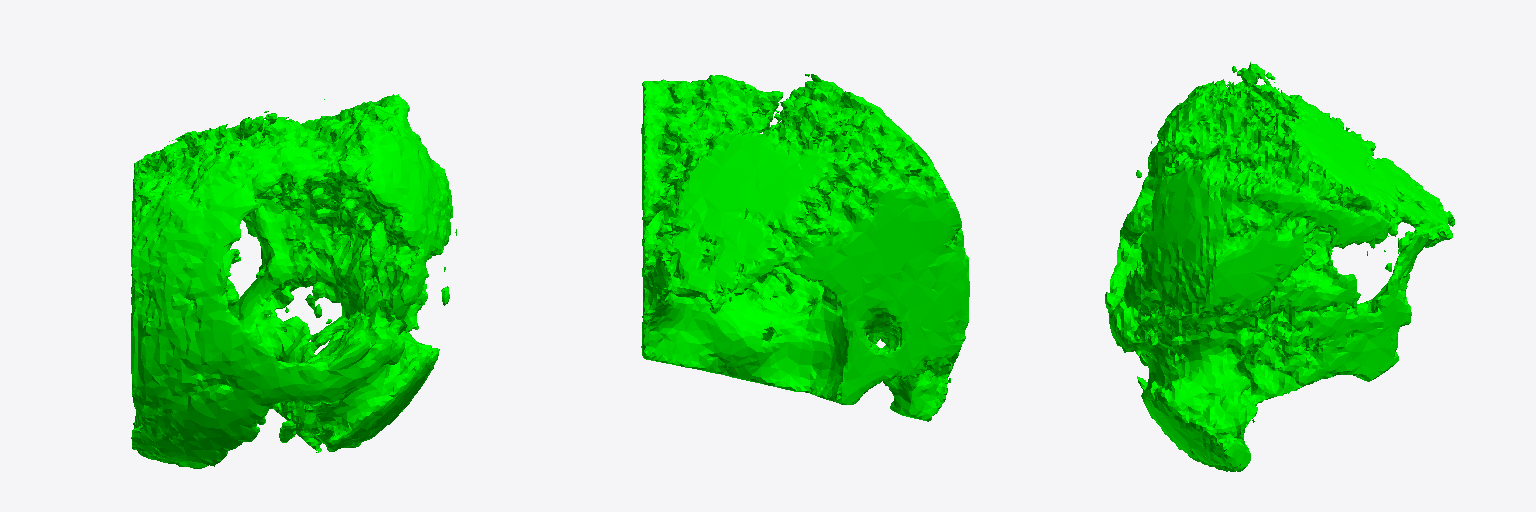
File: B939XXXX-1_base_22.obj
3 views of the same model, side by side, from view 1: azimuth 30°, elevation 25°; view 2: azimuth 150°, elevation 25°; view 3: azimuth 270°, elevation 25° (orthographic).
Visible parts, largest first — view 1: 22_base; view 2: 22_base; view 3: 22_base.
Boxes of the visible parts, x1,y1,x2,y2 form: 22_base: [131, 94, 456, 468]; 22_base: [641, 74, 969, 421]; 22_base: [1105, 62, 1454, 471].
Bounding box in the file's own units: 219 × 218 × 204.